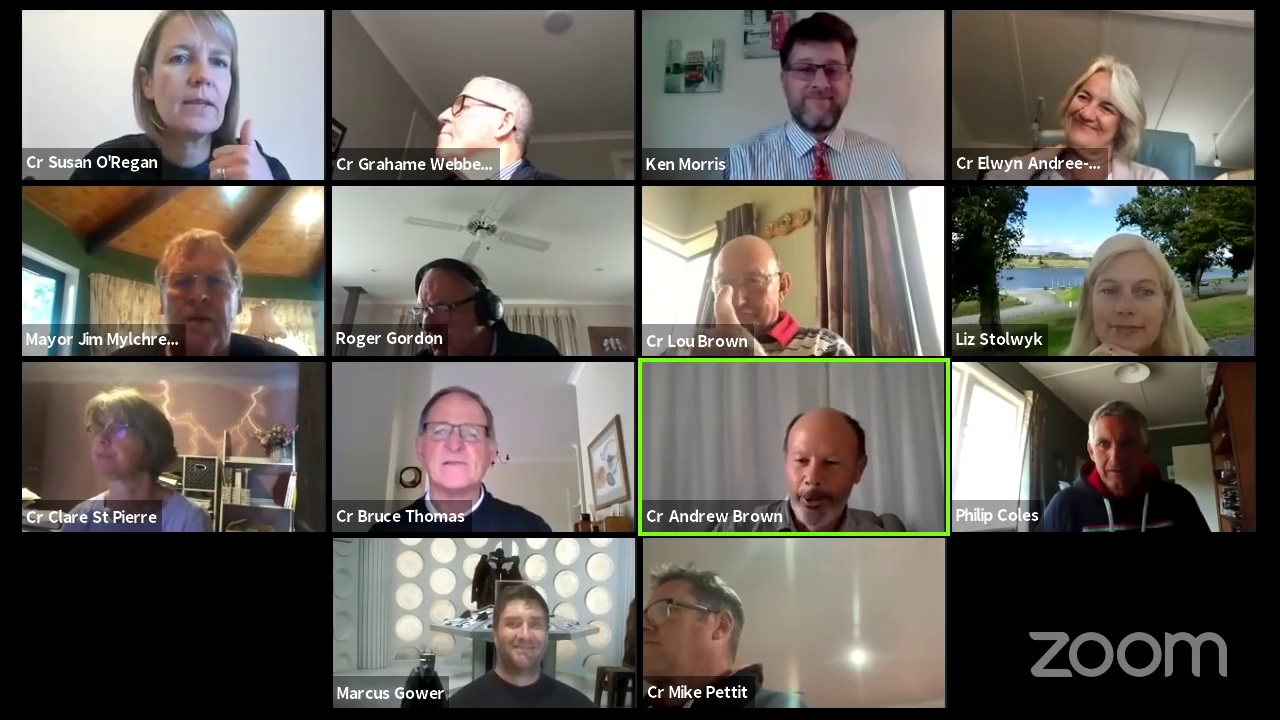Distracted: (75, 389, 174, 489), (426, 65, 525, 158), (651, 565, 731, 678), (694, 239, 790, 329), (407, 262, 493, 347)
Not Distracted: (127, 23, 245, 135), (144, 237, 260, 348), (1080, 242, 1177, 358), (411, 388, 513, 498), (780, 411, 863, 516), (779, 30, 860, 129), (1062, 60, 1143, 150), (1083, 405, 1151, 493), (486, 597, 549, 674)
